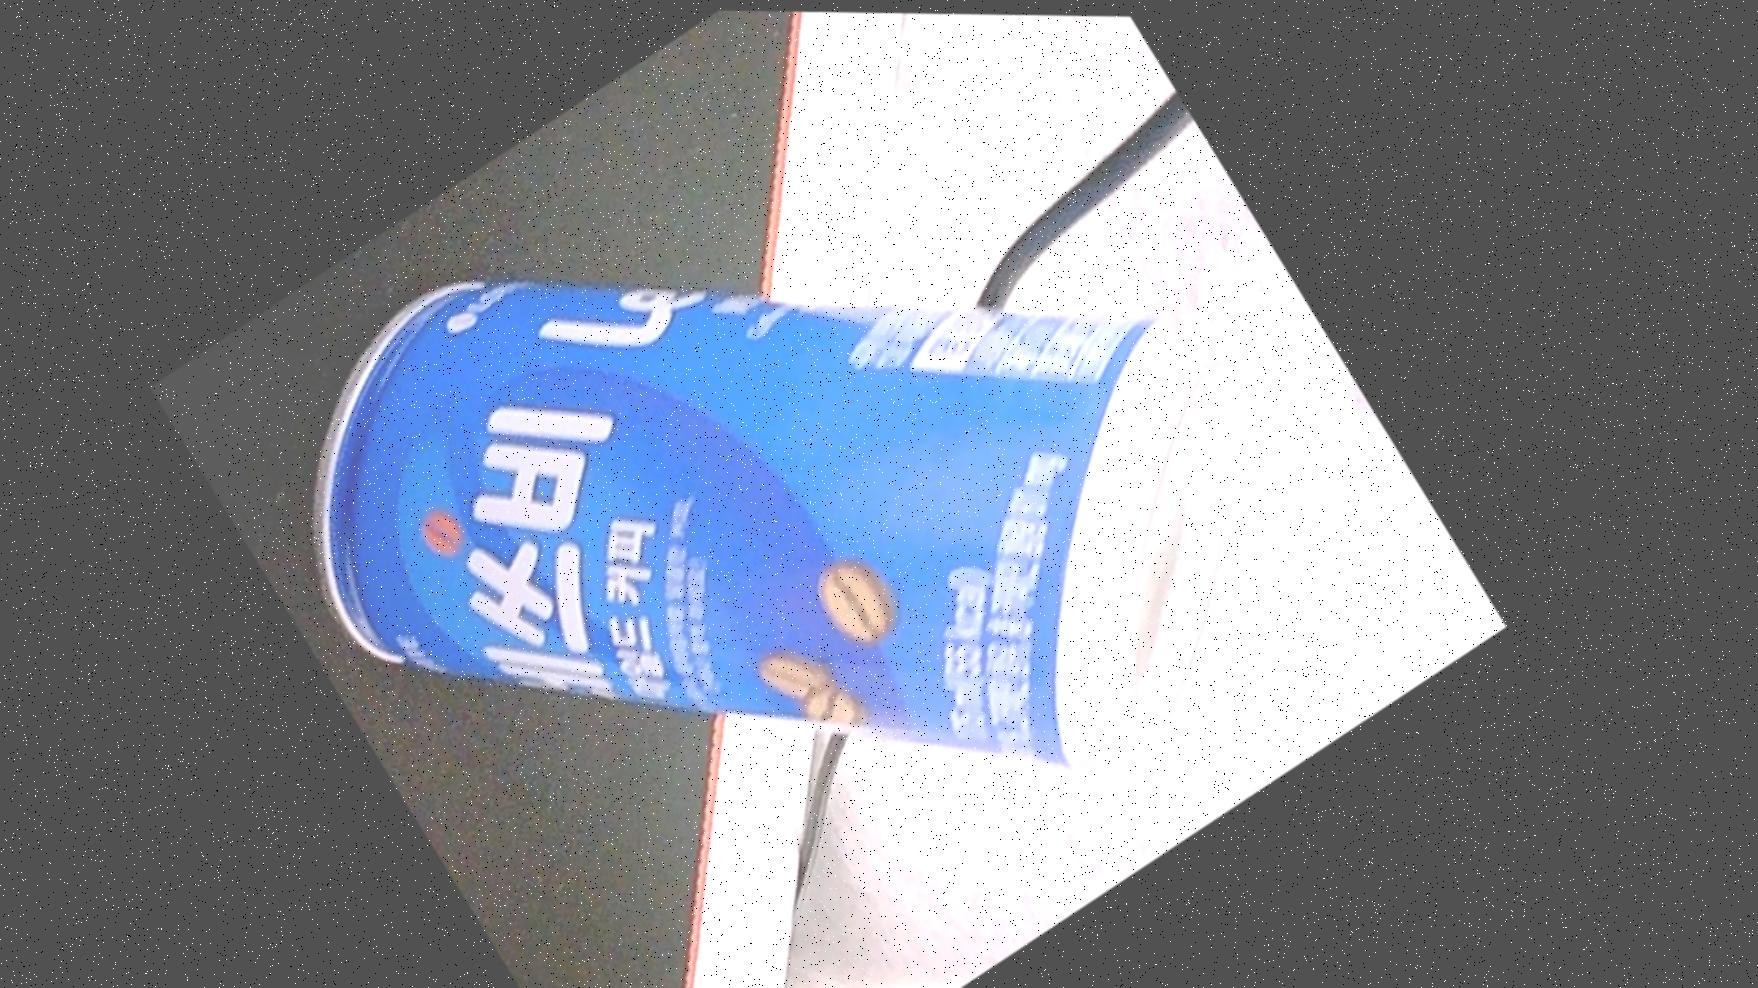letsbe: (184, 4, 1425, 988)
